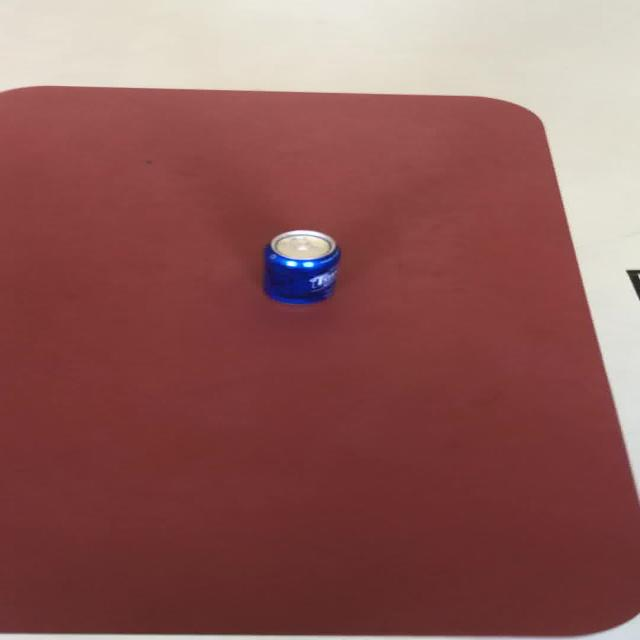tonic: (261, 228, 340, 304)
